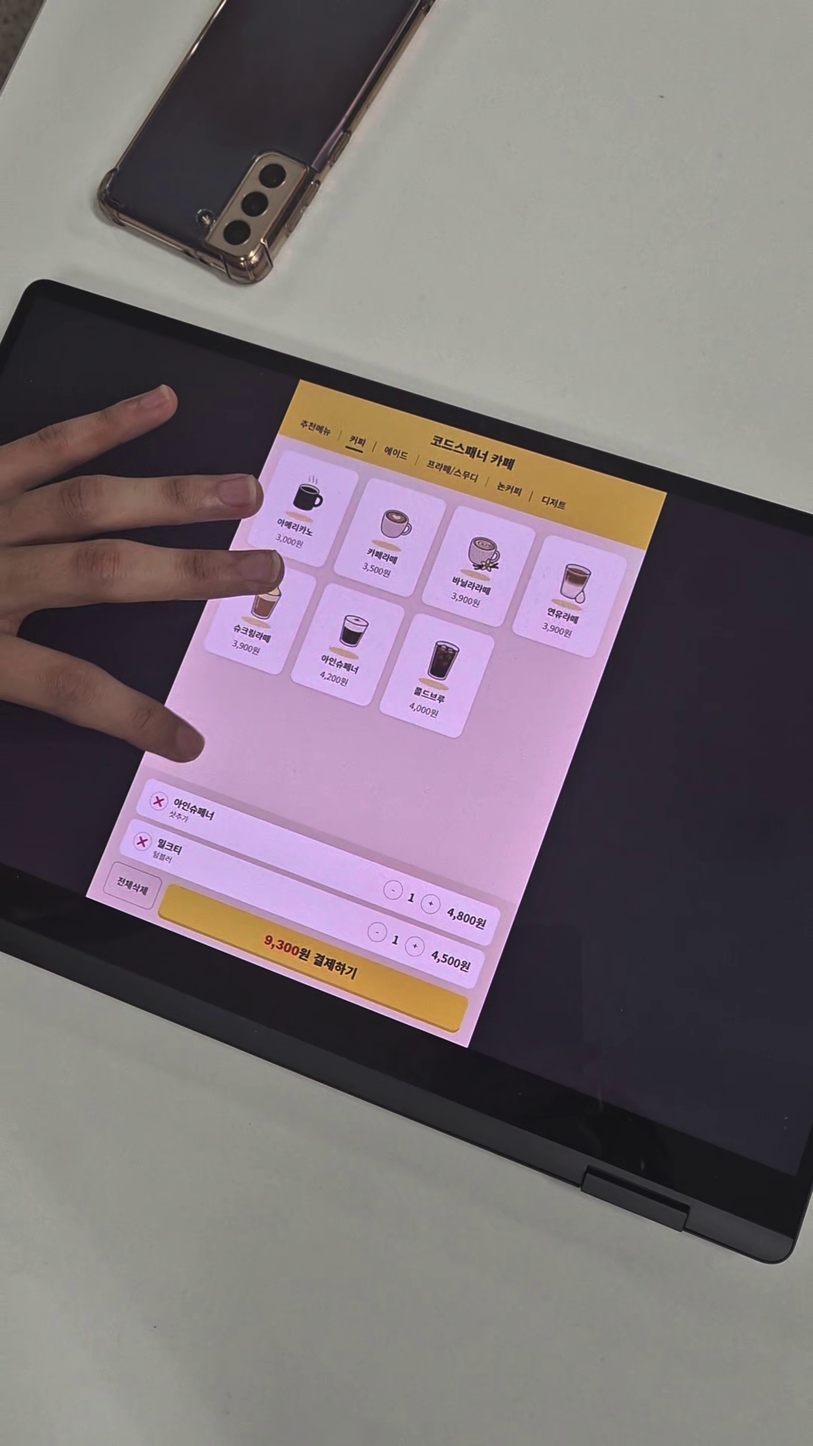action_button: (157, 878, 470, 1035), (99, 857, 169, 916)
cart_item: (117, 816, 490, 995), (134, 776, 505, 954)
category_tab: (420, 453, 488, 491), (282, 408, 336, 447), (378, 437, 417, 464), (537, 490, 574, 517), (491, 475, 527, 502), (340, 424, 373, 453)
menu_back: (374, 609, 501, 746), (506, 530, 632, 667), (194, 552, 322, 681), (417, 501, 539, 633), (287, 578, 406, 713), (330, 474, 451, 604), (242, 447, 362, 572)
menu_name: (226, 616, 281, 650), (443, 570, 498, 602), (267, 511, 318, 542), (313, 648, 365, 678), (405, 680, 452, 712), (538, 602, 587, 631), (358, 540, 403, 570)
menu_price: (221, 632, 270, 663), (313, 665, 355, 692), (404, 698, 443, 724)
